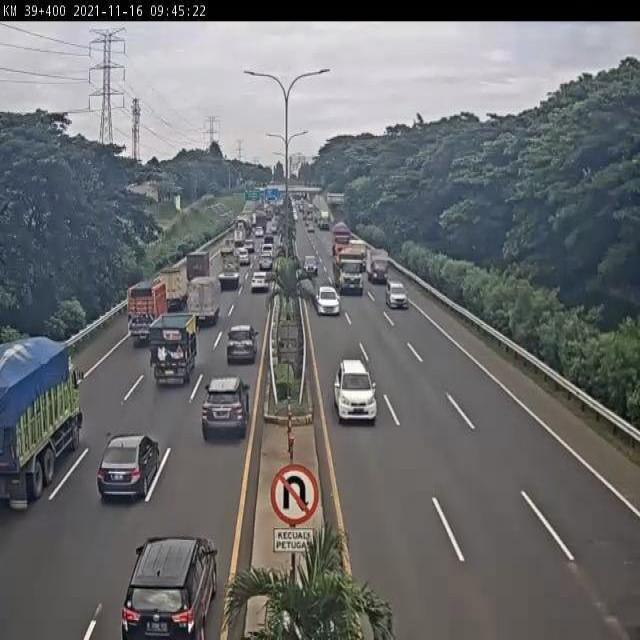car: (122, 534, 218, 640), (95, 432, 160, 497), (198, 380, 247, 443), (333, 357, 378, 424), (225, 324, 256, 365), (315, 284, 339, 317), (385, 277, 410, 307), (250, 271, 271, 293), (234, 244, 251, 265), (258, 257, 273, 276)
small truck: (187, 276, 221, 329), (157, 269, 185, 311)
truck-l-: (0, 341, 85, 504), (331, 239, 364, 293)
truck-m-: (151, 314, 196, 386), (125, 287, 163, 340), (217, 252, 242, 288), (186, 252, 211, 283)
